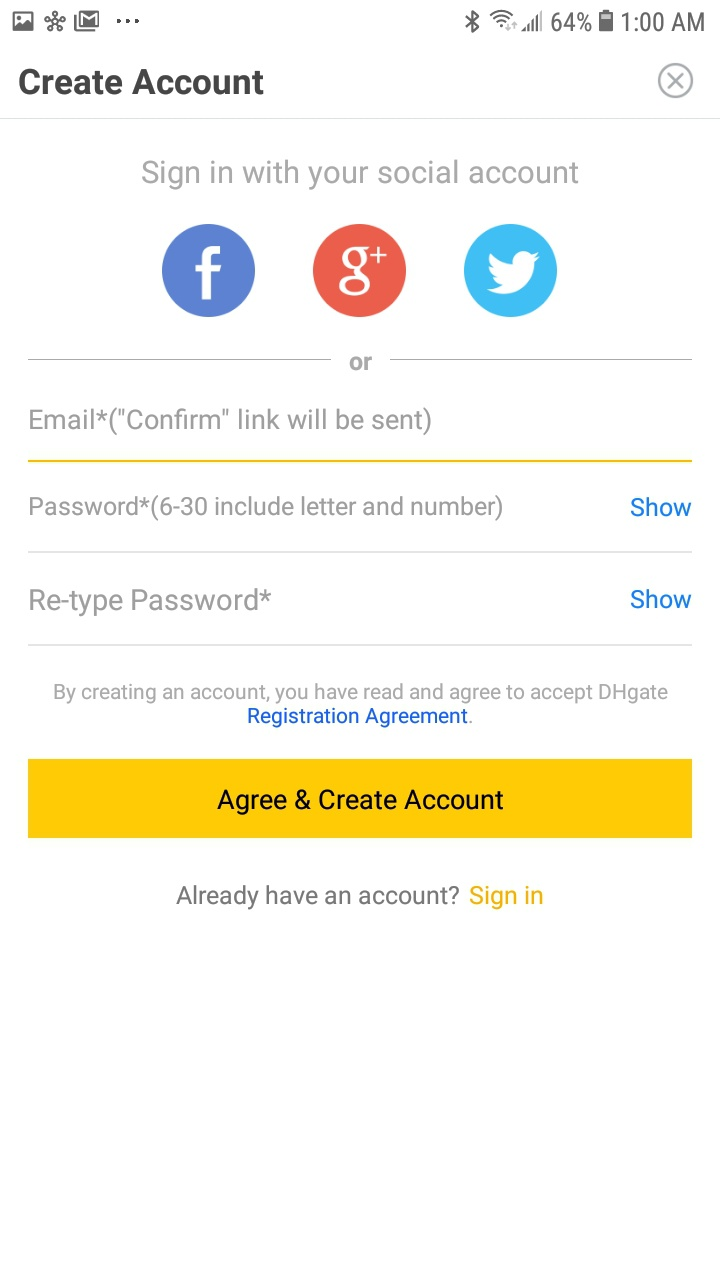EditText: (29, 587, 693, 647), (29, 494, 693, 554), (28, 406, 693, 463)
Icon: (162, 224, 256, 318), (313, 224, 407, 318), (464, 224, 558, 318), (657, 63, 694, 100)
Text: (55, 683, 669, 728), (142, 160, 579, 192), (30, 494, 503, 522), (30, 406, 432, 436), (176, 885, 543, 911), (30, 587, 272, 617), (19, 68, 265, 96), (630, 589, 692, 610), (631, 496, 692, 517), (346, 354, 373, 372)
TextButton: (28, 759, 692, 839)
UpperTaskBar: (1, 1, 720, 35)
